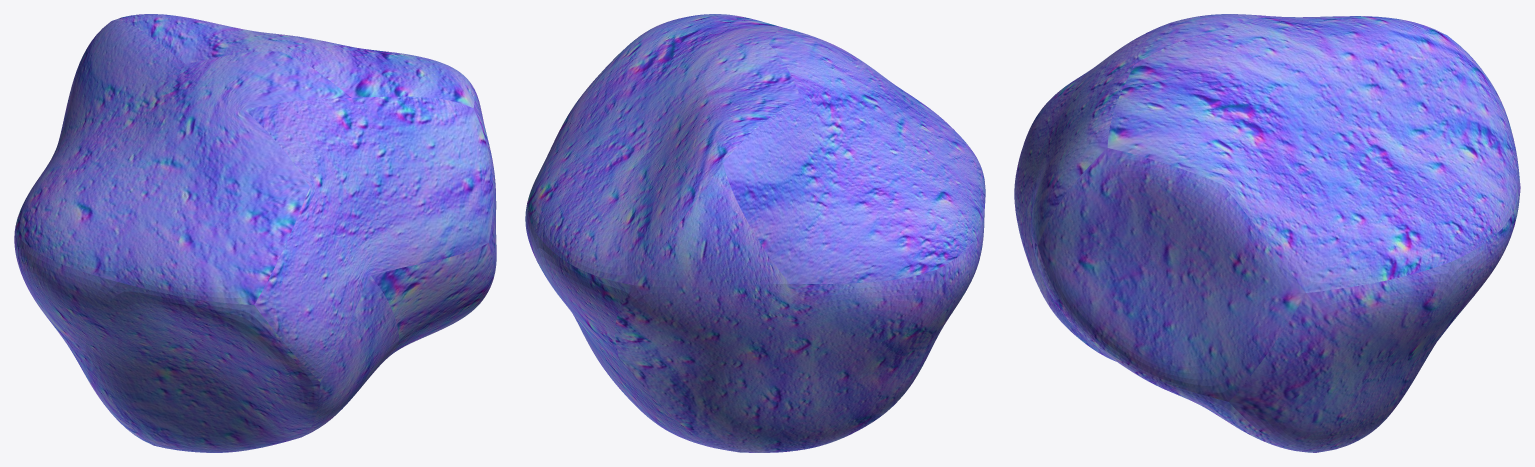
File: smallasteroid1_LOD0.fbx
The picture shows the model from 3 angles, left to right: view 1: azimuth 30°, elevation 25°; view 2: azimuth 150°, elevation 25°; view 3: azimuth 270°, elevation 25°; orthographic projection. The views are drawn at different scales.
Visible parts, largest first — view 1: Icosphere; view 2: Icosphere; view 3: Icosphere.
Boxes of the visible parts, <box> form: Icosphere: <box>14,14,496,452</box>; Icosphere: <box>525,14,985,452</box>; Icosphere: <box>1014,14,1520,452</box>.
Size of the model in its own units: 275 by 232 by 270.
